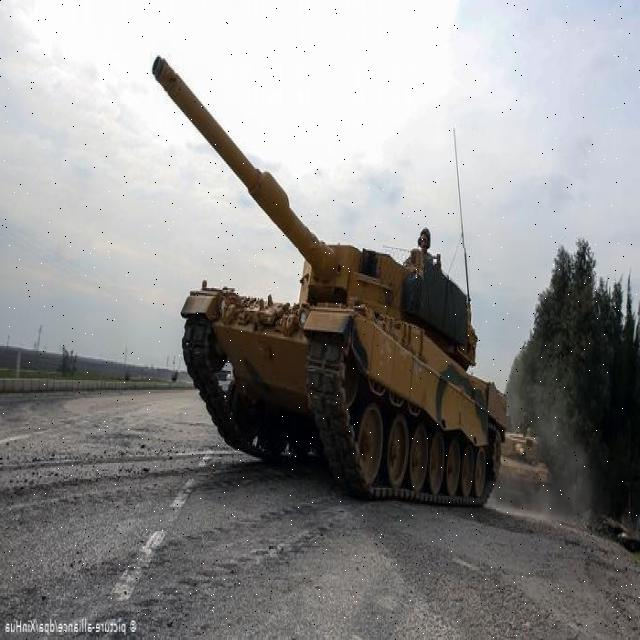MIL_MBT: (197, 249, 495, 525)
